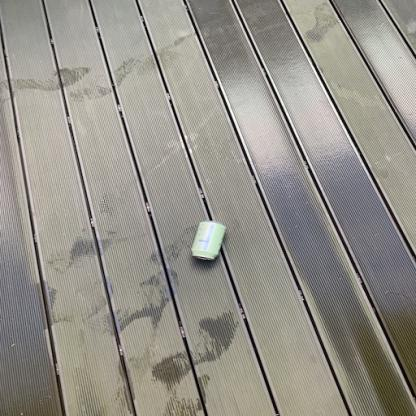trash: (191, 221, 226, 262)
